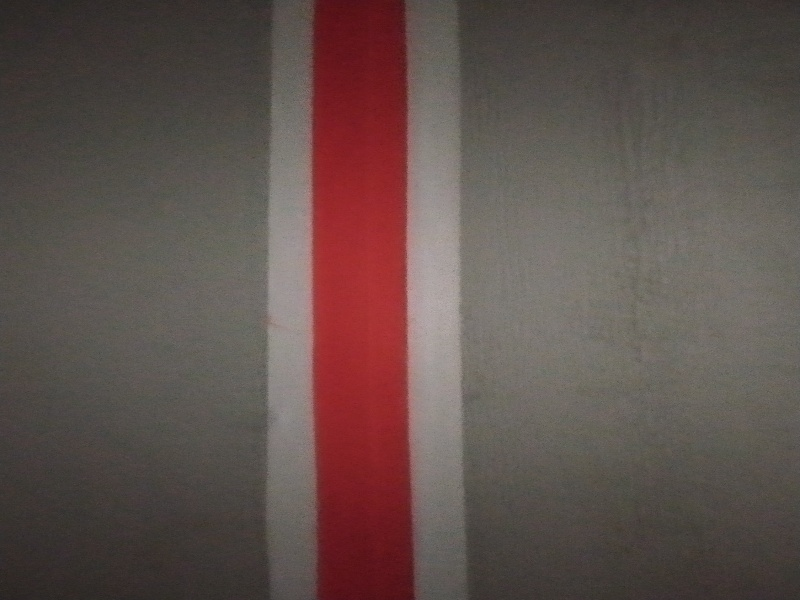reta: (268, 6, 475, 600)
